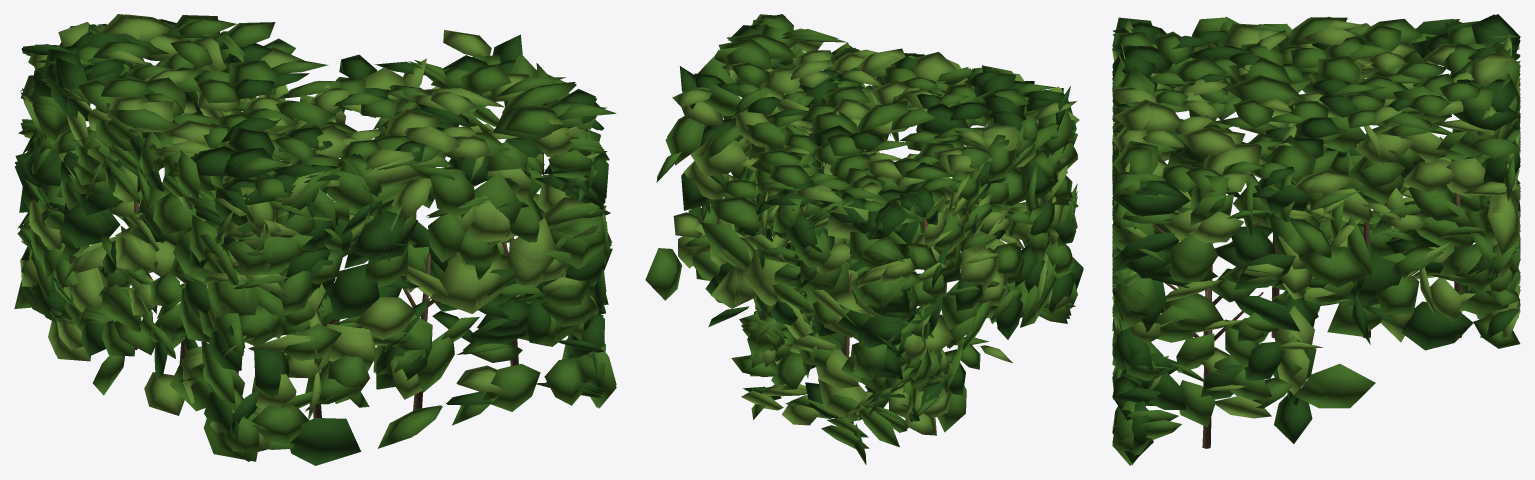
File: MV_Hedge_Corner_1m.fbx
The picture shows the model from 3 angles, left to right: view 1: azimuth 30°, elevation 25°; view 2: azimuth 150°, elevation 25°; view 3: azimuth 270°, elevation 25°; orthographic projection. The views are drawn at different scales.
Parts seen in each view (by area): view 1: LOD0_Mesh, LOD1_Mesh, LOD2_Mesh; view 2: LOD0_Mesh, LOD1_Mesh, LOD2_Mesh; view 3: LOD0_Mesh, LOD1_Mesh, LOD2_Mesh.
Part boxes in pixels (box(x1,y1,x2,y2)): LOD0_Mesh: box(14, 17, 616, 461); LOD1_Mesh: box(15, 14, 616, 458); LOD2_Mesh: box(15, 14, 610, 465); LOD0_Mesh: box(666, 24, 1083, 464); LOD1_Mesh: box(656, 14, 1083, 435); LOD2_Mesh: box(645, 33, 1077, 419); LOD0_Mesh: box(1112, 16, 1520, 465); LOD1_Mesh: box(1112, 14, 1520, 465); LOD2_Mesh: box(1112, 14, 1520, 463).
Bounding box in the file's own units: 1.3 × 1 × 1.3.
